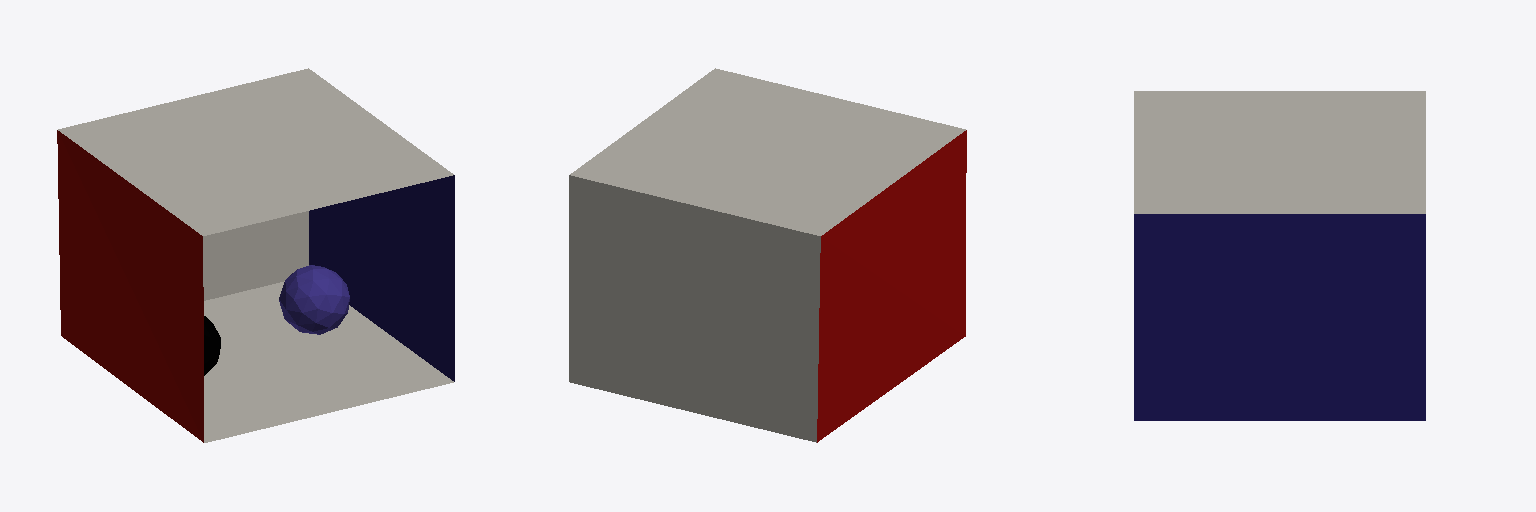
Rendered from CornellBox-Sphere-655.obj.
The picture shows the model from 3 angles: view 1: azimuth 30°, elevation 25°; view 2: azimuth 150°, elevation 25°; view 3: azimuth 270°, elevation 25°; orthographic projection.
Parts seen in each view (by area): view 1: ceiling, leftWall, floor, rightWall, backWall, leftSphere, rightSphere; view 2: backWall, ceiling, leftWall; view 3: rightWall, ceiling.
Part boxes in pixels (x1,y1,x2,y2): ceiling: (58,68,453,235); leftWall: (57,130,203,442); floor: (204,281,453,442); rightWall: (309,175,454,381); backWall: (203,211,308,300); leftSphere: (279,265,349,334); rightSphere: (204,316,220,375); backWall: (569,175,820,442); ceiling: (570,68,965,235); leftWall: (817,130,966,442); rightWall: (1134,214,1425,420); ceiling: (1134,91,1425,213).
Bounding box in the file's own units: 2.02 × 1.59 × 2.03.